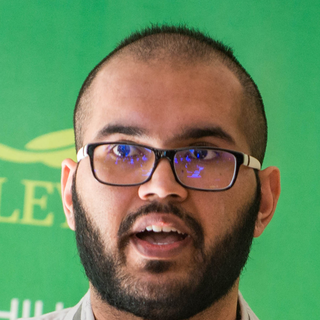eye: (102, 142, 144, 167), (179, 145, 220, 169)
